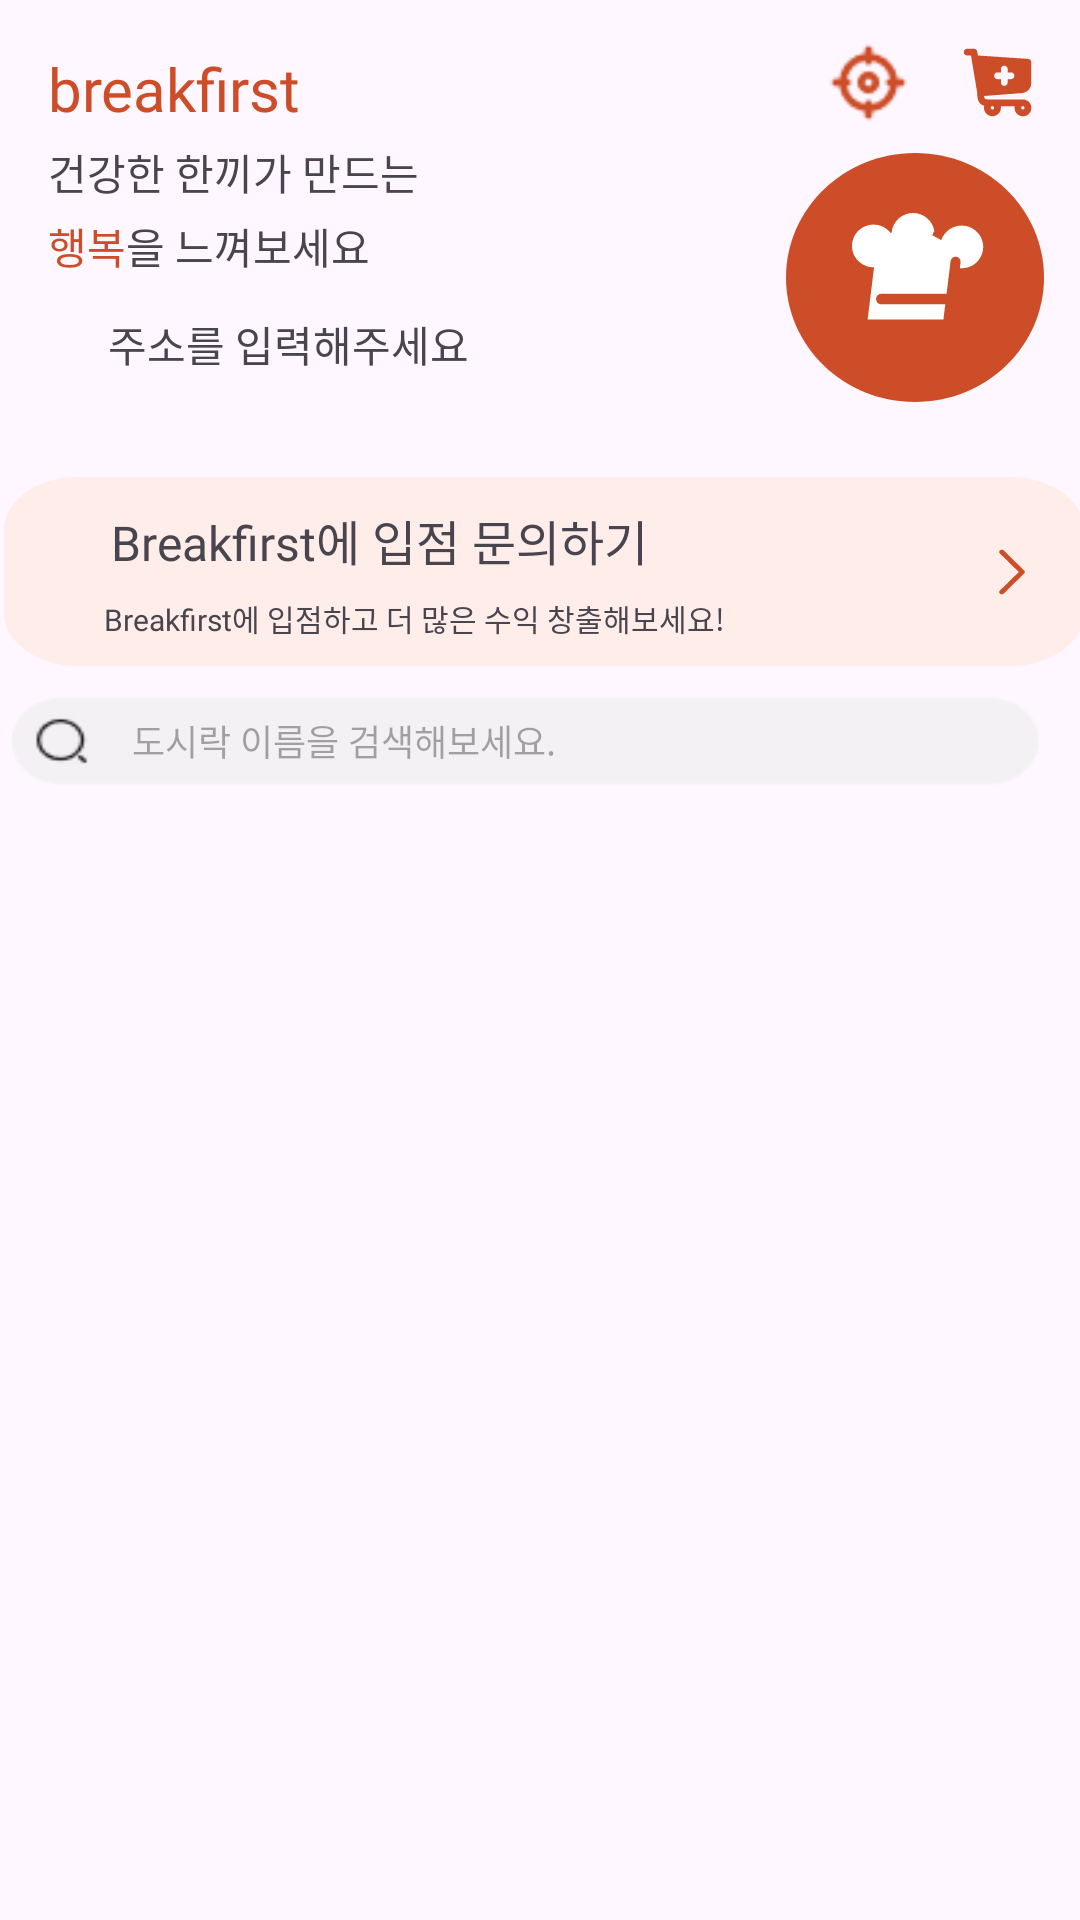

Named icons in this screenshot (1080×1920) and their centers, (x,y):
cart: (997,82)
home location: (868,82)
redrightarrow: (1012,572)
